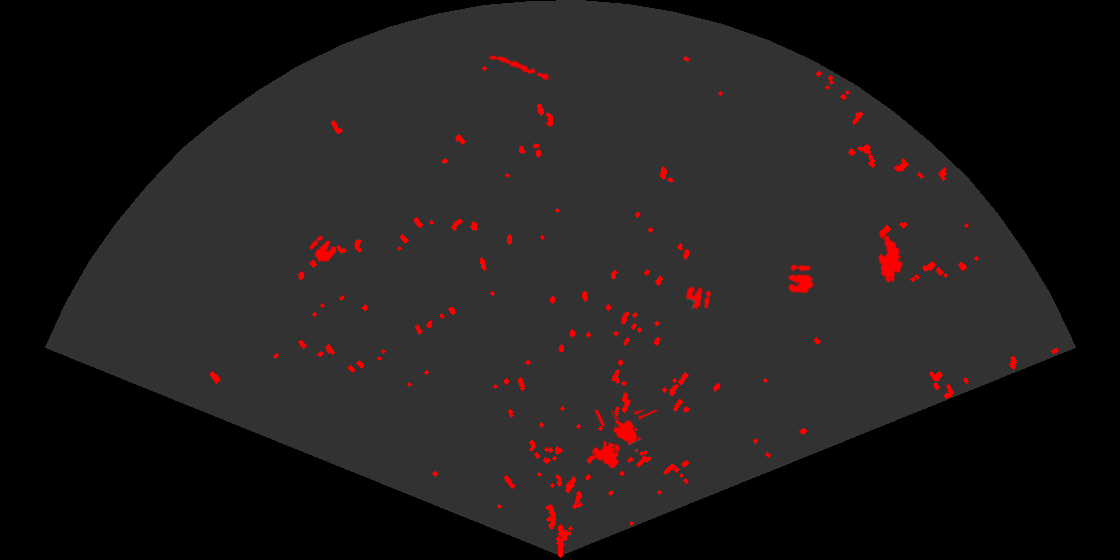AUV: (876, 233, 905, 285)
ball: (786, 263, 816, 295), (308, 234, 338, 264), (684, 284, 712, 311)
cage: (590, 410, 658, 470)
chain: (487, 54, 554, 83)
